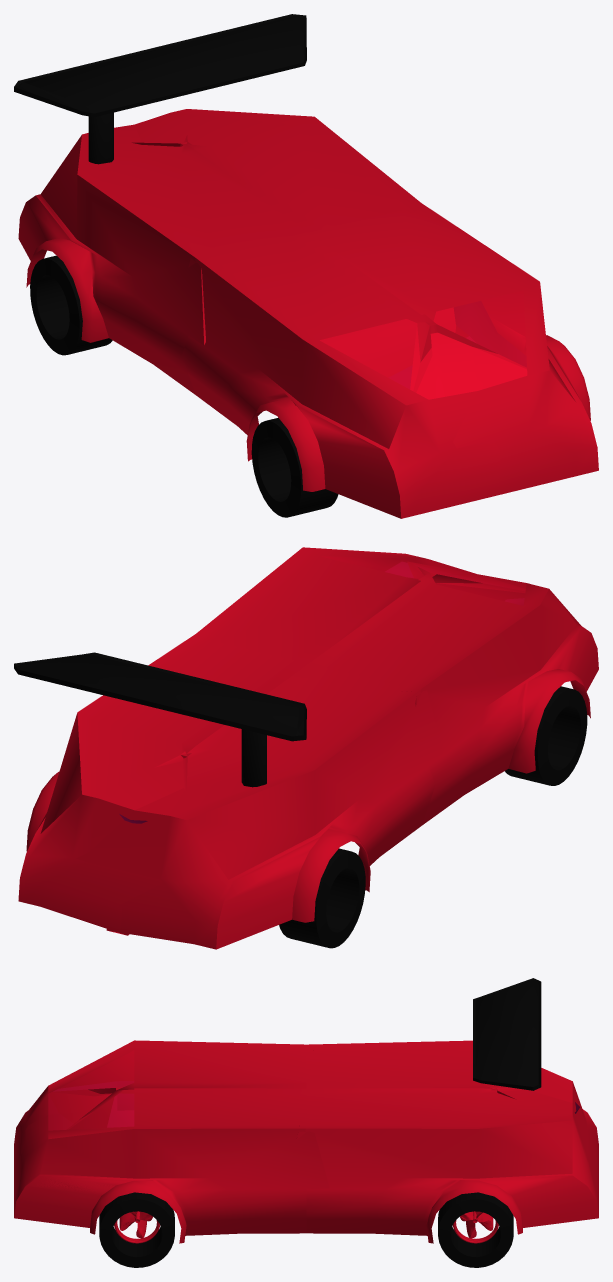
File: car2.fbx
3 renders of one model, top to bottom at view 1: azimuth 30°, elevation 25°; view 2: azimuth 150°, elevation 25°; view 3: azimuth 270°, elevation 25°, orthographic. The views are drawn at different scales.
Parts seen in each view (by area): view 1: obj1, obj2, obj3; view 2: obj1, obj2, obj3; view 3: obj1, obj2.
Boxes of the visible parts, x1=… form: obj1: x1=18, y1=109, x2=598, y2=518; obj2: x1=14, y1=14, x2=306, y2=117; obj3: x1=88, y1=112, x2=113, y2=164; obj1: x1=18, y1=547, x2=598, y2=949; obj2: x1=14, y1=652, x2=306, y2=741; obj3: x1=241, y1=729, x2=266, y2=787; obj1: x1=14, y1=1040, x2=598, y2=1267; obj2: x1=473, y1=978, x2=541, y2=1090.
Size of the model in its own units: 532 by 418 by 1205.
